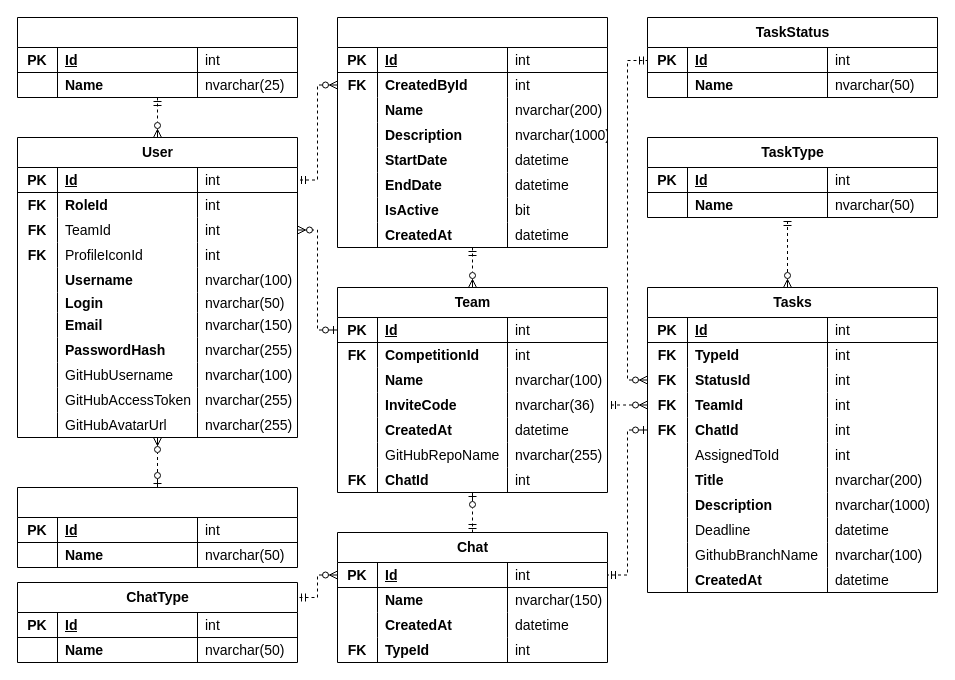
This 955x680 diagram has some shape labels left out. Here are the shapes that lost their labels. From the top down, the box of each, then its label:
(16, 16, 298, 98): Role
(336, 16, 608, 248): Competition
(16, 486, 298, 568): ProfileIcon
